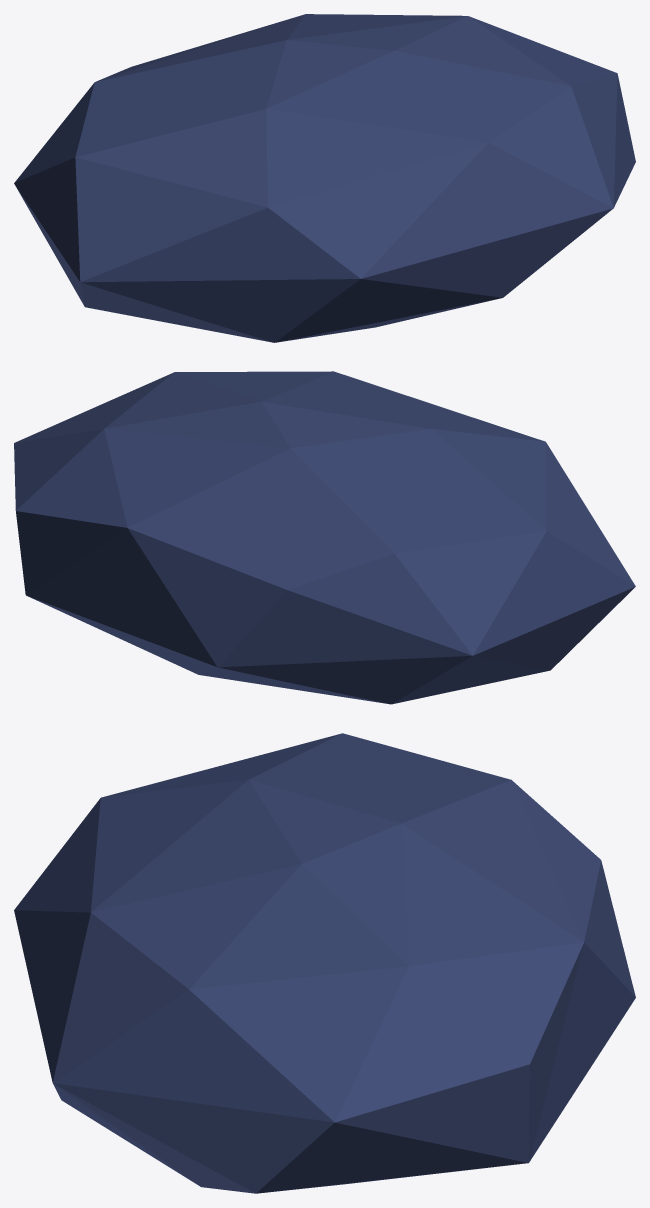
Rendered from HugeRock.fbx.
3 views of the same model, one above another, from view 1: azimuth 30°, elevation 25°; view 2: azimuth 150°, elevation 25°; view 3: azimuth 270°, elevation 25° (orthographic). The views are drawn at different scales.
Visible parts, largest first — view 1: Sphere; view 2: Sphere; view 3: Sphere.
Part boxes in pixels (bbox=[...]): Sphere: bbox=[14, 14, 635, 342]; Sphere: bbox=[14, 371, 635, 704]; Sphere: bbox=[14, 733, 635, 1193].
Bounding box in the file's own units: 336 × 128 × 247.
